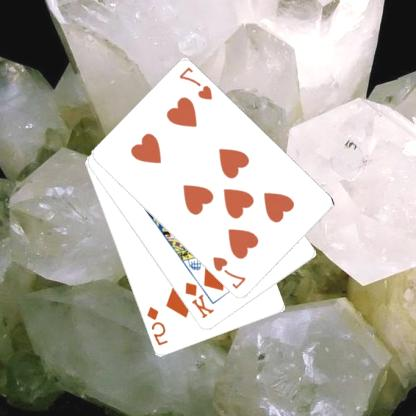5D: (146, 304, 171, 348)
7H: (178, 64, 215, 102), (212, 254, 249, 291)
KD: (184, 280, 217, 320)
